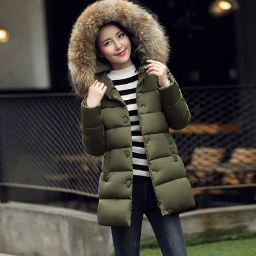face: (75, 13, 149, 73)
